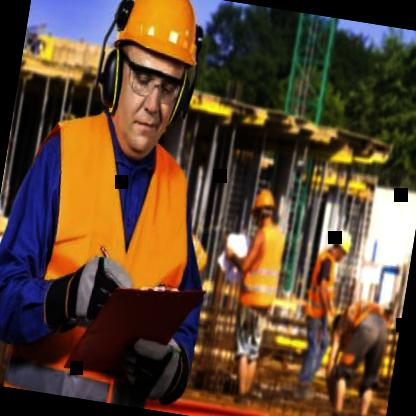helmet: (87, 0, 211, 162), (248, 182, 277, 227), (331, 226, 353, 264)
